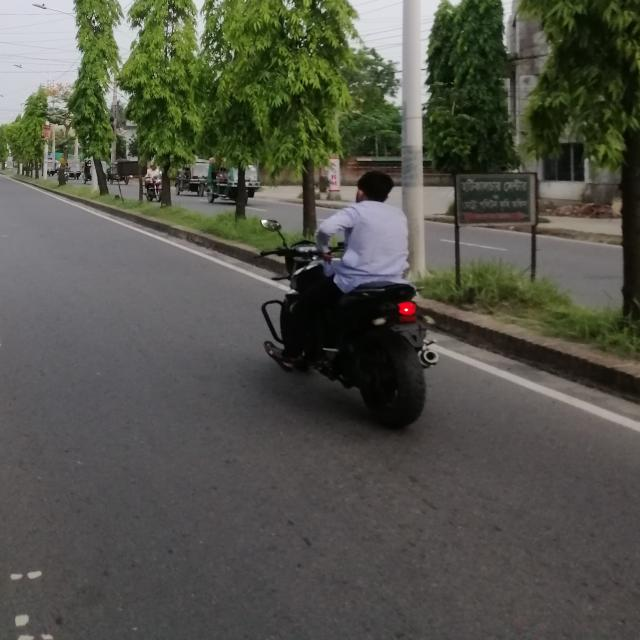Motorbike: (243, 212, 441, 429)
